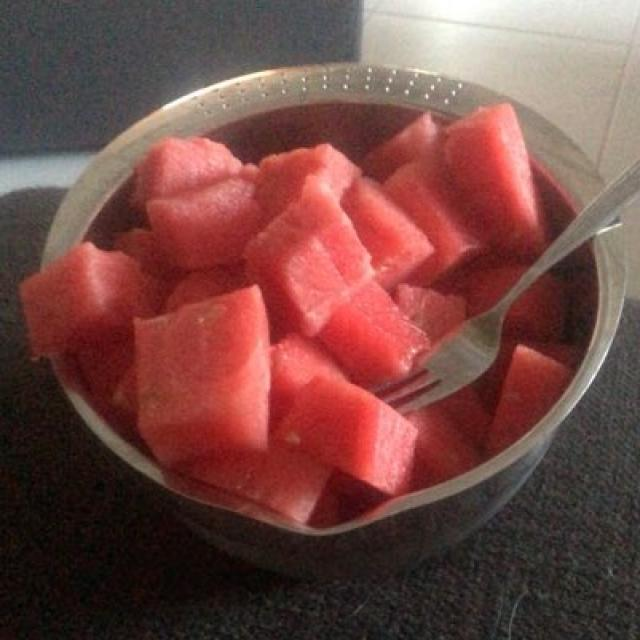watermelon-fresh: (31, 106, 572, 510)
